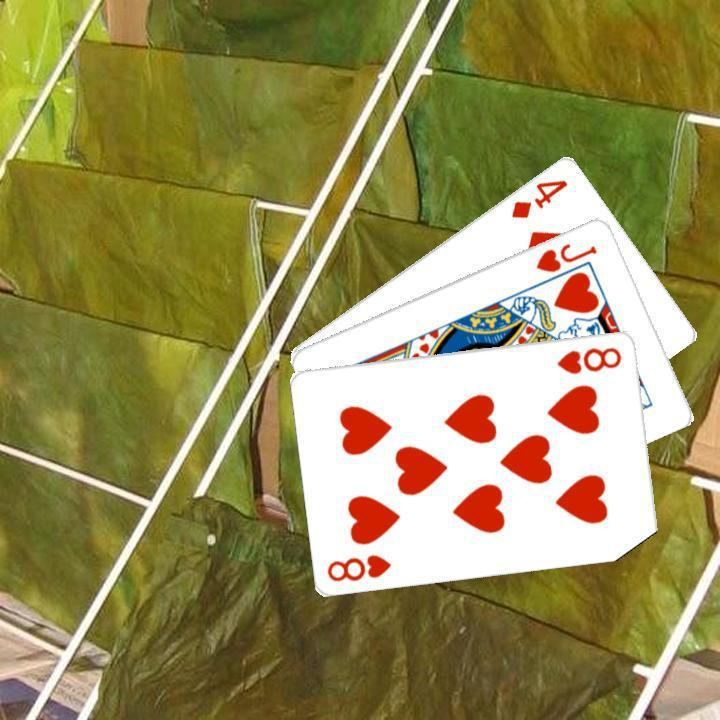4: (507, 174, 570, 220)
8: (552, 342, 624, 376), (323, 549, 393, 583)
J: (531, 238, 599, 274)
